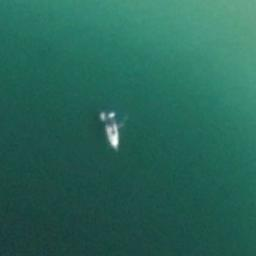boat: (98, 110, 122, 154)
